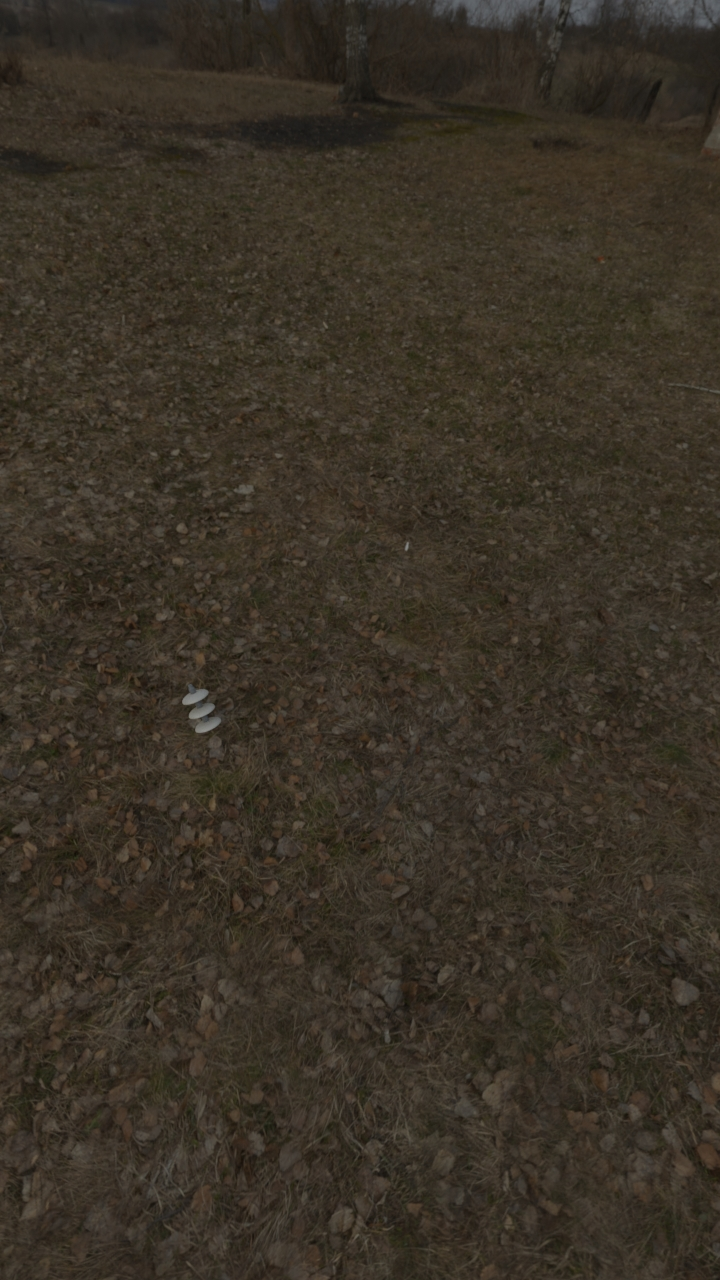ceramicinsulators: (183, 683, 221, 733)
